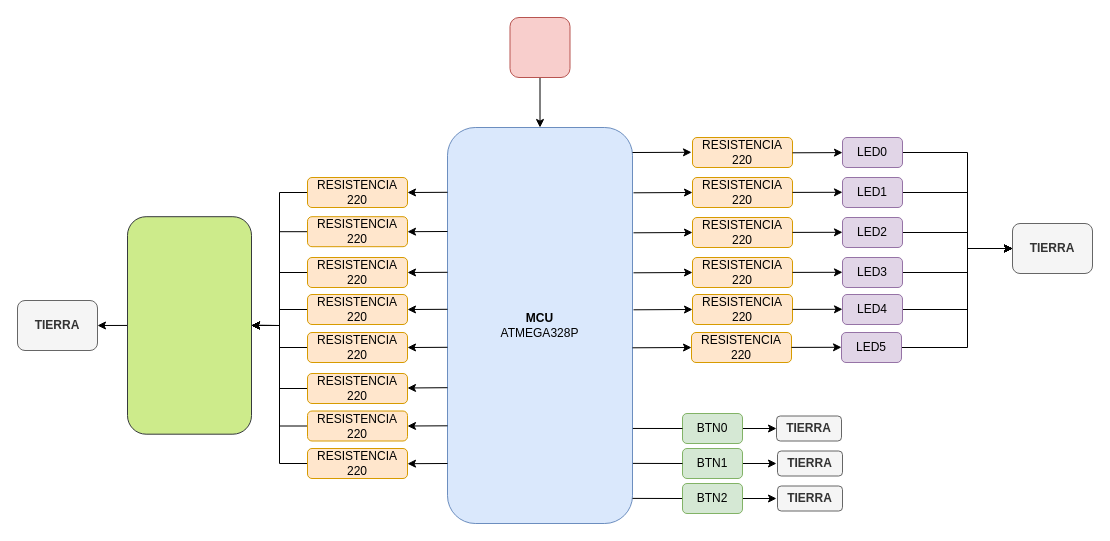
This 1110x541 diagram has some shape labels left out. Here are the shapes that lost their labels. From the top down, the centre of each, then its label:
At point (539, 47): "USB +5V".
At point (189, 325): "DISPLAY CÁTODO COMÚN 7 SEGMENTOS".
